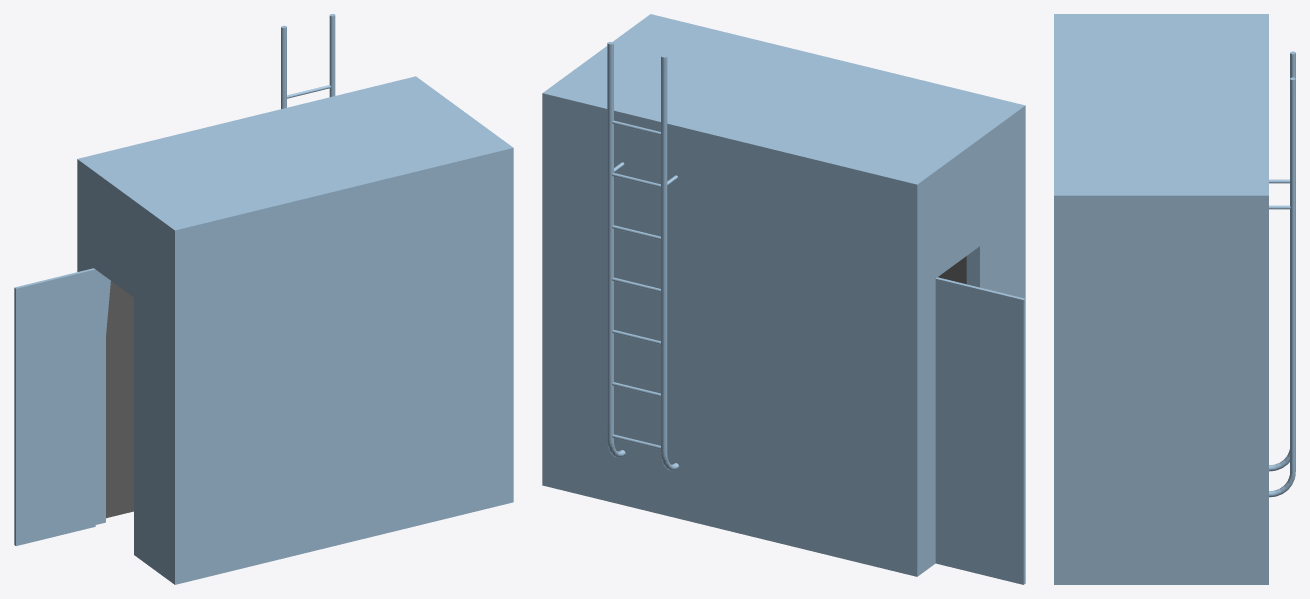
The model's file is bath.glb.
The picture shows the model from 3 angles, left to right: view 1: azimuth 30°, elevation 25°; view 2: azimuth 150°, elevation 25°; view 3: azimuth 270°, elevation 25°; orthographic projection. The views are drawn at different scales.
Parts seen in each view (by area): view 1: Bath.002; view 2: Bath.002; view 3: Bath.002.
Boxes of the visible parts, x1,y1,x2,y2 form: Bath.002: (14, 14, 513, 584); Bath.002: (542, 14, 1025, 584); Bath.002: (1054, 14, 1295, 584).
Size of the model in its own units: 12.34 by 11.99 by 5.62.
